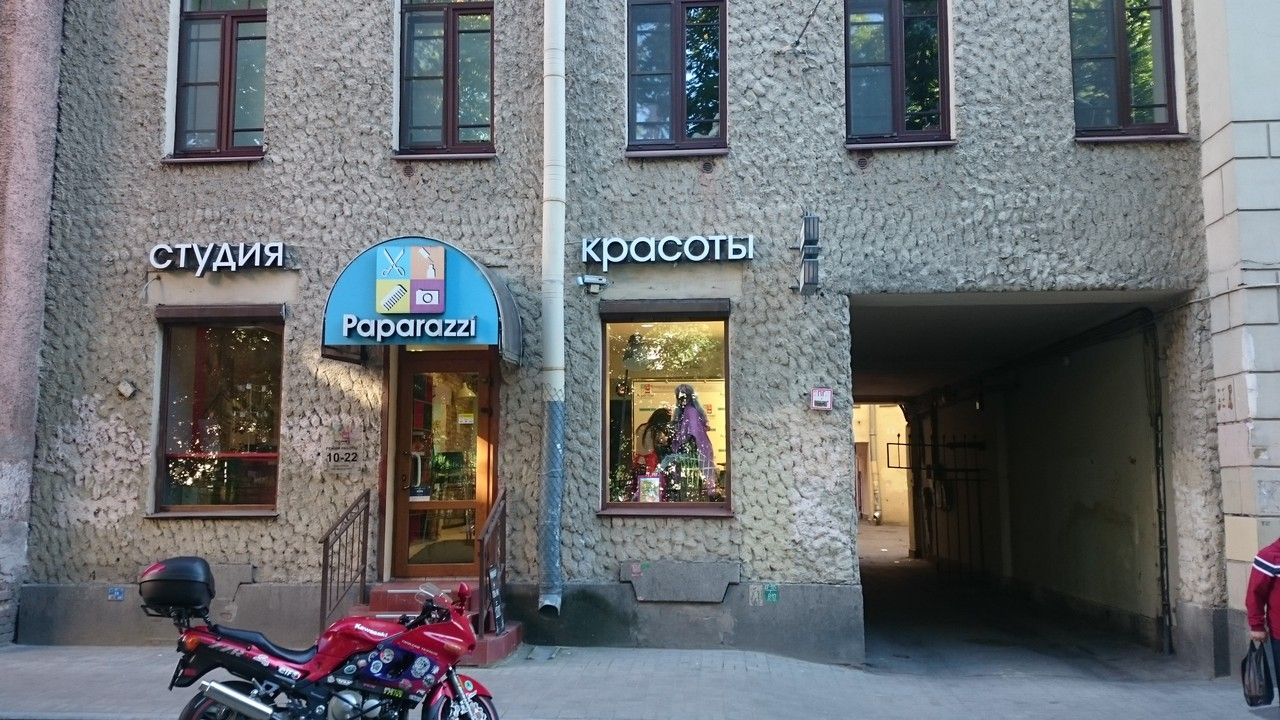arch: (847, 280, 1199, 670)
cantilever: (784, 206, 827, 297)
door: (399, 366, 487, 567)
signboard: (147, 239, 286, 279), (578, 237, 747, 262), (341, 311, 479, 338)
window: (157, 314, 285, 518), (598, 312, 729, 508), (174, 1, 268, 162), (628, 1, 728, 152), (397, 1, 495, 153), (1074, 1, 1180, 135), (844, 1, 943, 143)
